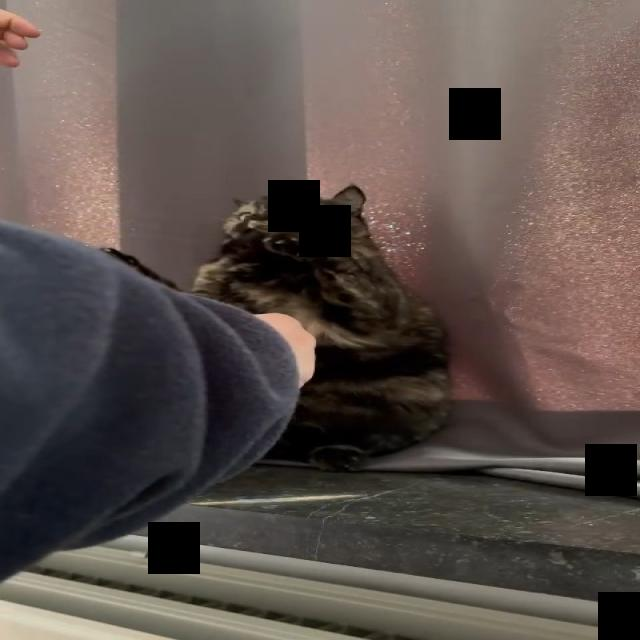authorized: (98, 182, 454, 472)
